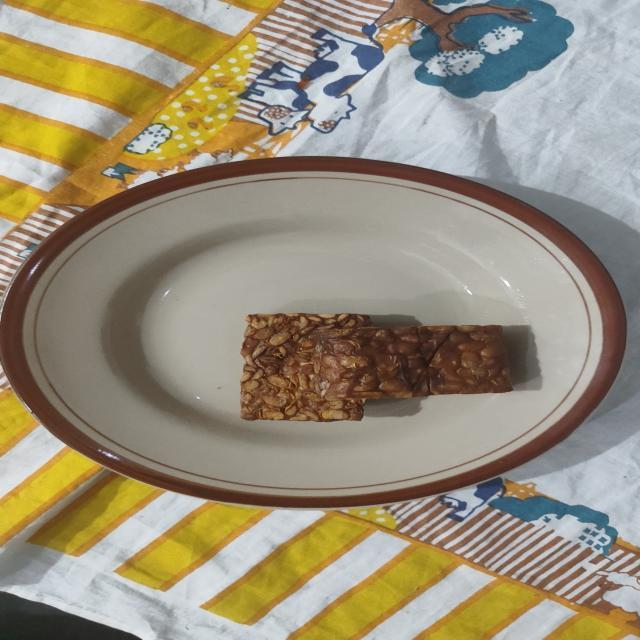tempe_goreng: (314, 326, 512, 400), (240, 314, 372, 422)
